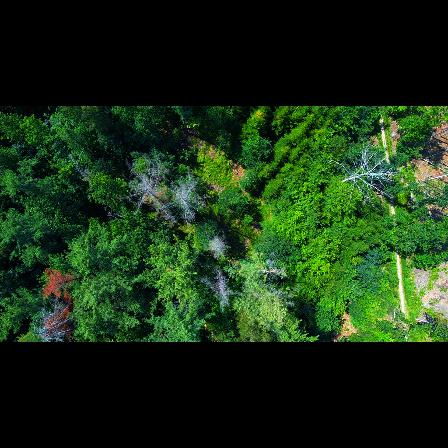Dead: (332, 148, 396, 206), (117, 157, 167, 216), (24, 292, 80, 342), (196, 267, 242, 313), (164, 172, 207, 220), (205, 231, 235, 264)
